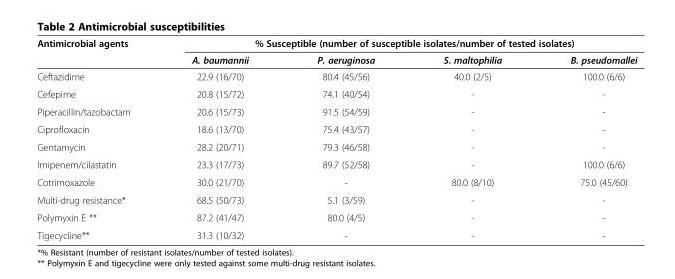table: (36, 37, 636, 240)
table column: (408, 37, 535, 240), (282, 37, 408, 240), (36, 37, 160, 240), (160, 37, 282, 240), (535, 37, 636, 240)
table column header: (36, 37, 636, 67)
table row: (36, 84, 636, 102), (36, 102, 636, 120), (36, 137, 636, 155), (36, 155, 636, 173), (36, 190, 636, 208), (36, 208, 636, 226), (36, 67, 636, 84), (36, 120, 636, 137), (36, 173, 636, 190), (36, 51, 636, 67), (36, 37, 636, 51), (36, 226, 636, 240)
table spanning cell: (160, 37, 636, 51), (36, 37, 160, 67)
